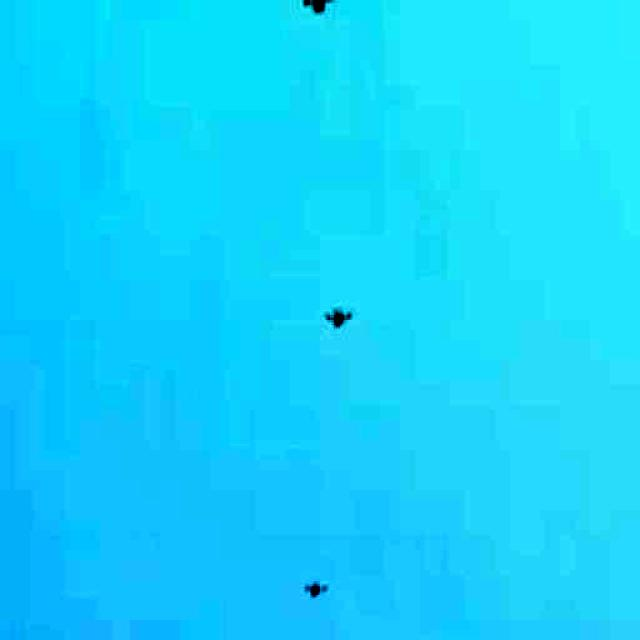bird: (321, 304, 355, 331), (301, 0, 338, 18), (301, 579, 331, 601)
